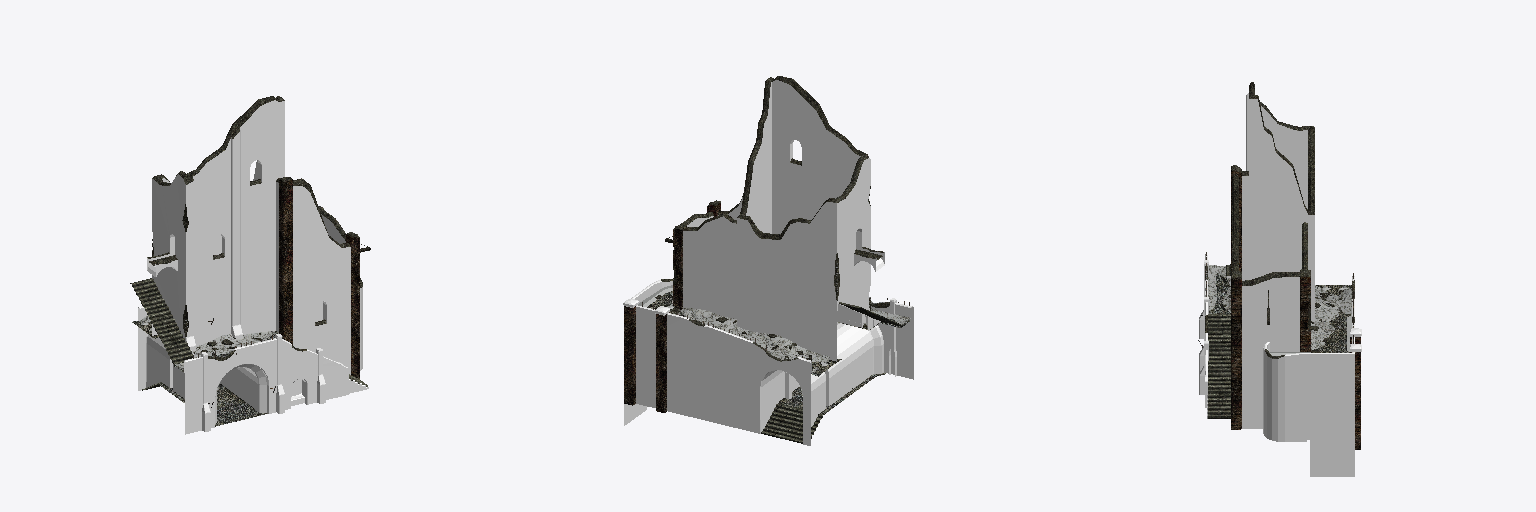
3 views of the same model, side by side, from view 1: azimuth 30°, elevation 25°; view 2: azimuth 150°, elevation 25°; view 3: azimuth 270°, elevation 25° (orthographic).
Parts seen in each view (by area): view 1: mesh6, mesh8, mesh7, mesh11, mesh10, mesh9, mesh14; view 2: mesh6, mesh7, mesh11, mesh8, mesh10, mesh14, mesh9, mesh15; view 3: mesh6, mesh8, mesh11, mesh10, mesh9, mesh15, mesh14.
Part boxes in pixels (bbox=[...]): mesh6: bbox=[138, 100, 368, 434]; mesh8: bbox=[279, 179, 359, 378]; mesh7: bbox=[146, 160, 345, 423]; mesh11: bbox=[147, 96, 362, 360]; mesh10: bbox=[130, 278, 367, 390]; mesh9: bbox=[132, 321, 278, 426]; mesh14: bbox=[148, 316, 270, 357]; mesh6: bbox=[623, 80, 913, 445]; mesh7: bbox=[687, 140, 881, 412]; mesh11: bbox=[661, 76, 889, 361]; mesh8: bbox=[624, 203, 720, 412]; mesh10: bbox=[761, 302, 902, 443]; mesh14: bbox=[682, 309, 867, 361]; mesh9: bbox=[647, 291, 910, 413]; mesh15: bbox=[681, 308, 910, 372]; mesh6: bbox=[1199, 93, 1361, 476]; mesh8: bbox=[1231, 170, 1360, 449]; mesh11: bbox=[1205, 82, 1354, 358]; mesh10: bbox=[1208, 264, 1230, 418]; mesh9: bbox=[1209, 273, 1351, 352]; mesh15: bbox=[1208, 265, 1351, 350]; mesh14: bbox=[1230, 278, 1350, 348].
Size of the model in its own units: 18.74 by 27.86 by 12.18.
Materials: 16 (10 with a texture image).